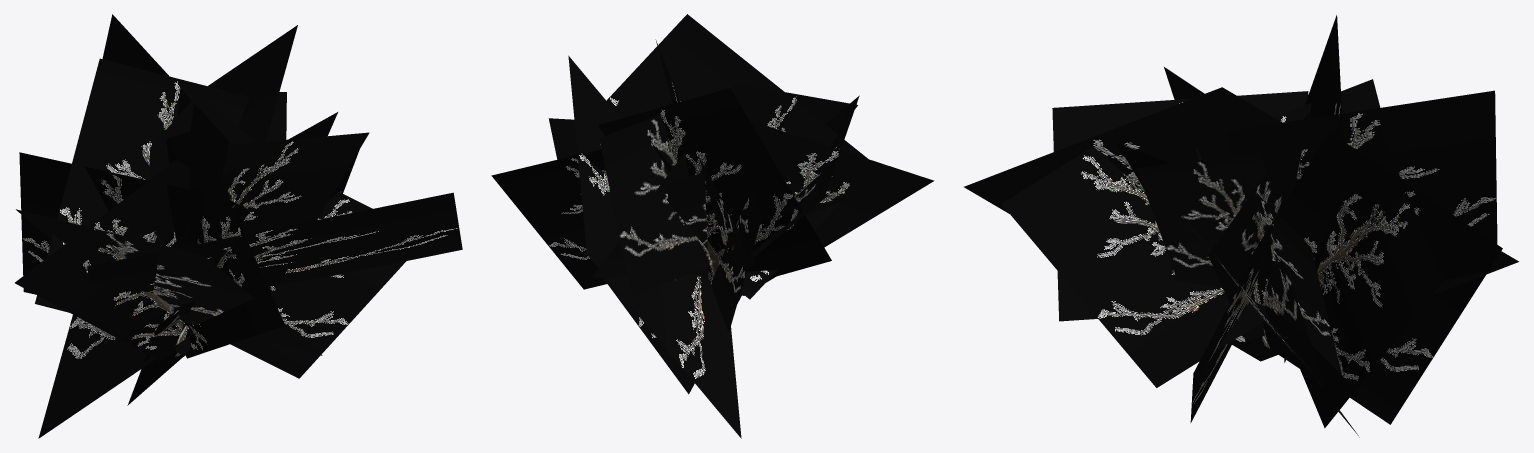
Rendered from bush.obj.
3 renders of one model, left to right at view 1: azimuth 30°, elevation 25°; view 2: azimuth 150°, elevation 25°; view 3: azimuth 270°, elevation 25°, orthographic. The views are drawn at different scales.
Visible parts, largest first — view 1: treebaretall; view 2: treebaretall; view 3: treebaretall.
Boxes of the visible parts, left/top/right/bottom form: treebaretall: left=15, top=14, right=462, bottom=438; treebaretall: left=491, top=14, right=934, bottom=438; treebaretall: left=964, top=15, right=1518, bottom=437.
Size of the model in its own units: 0.1916 by 0.16 by 0.187.
1 material, 1 textured.
